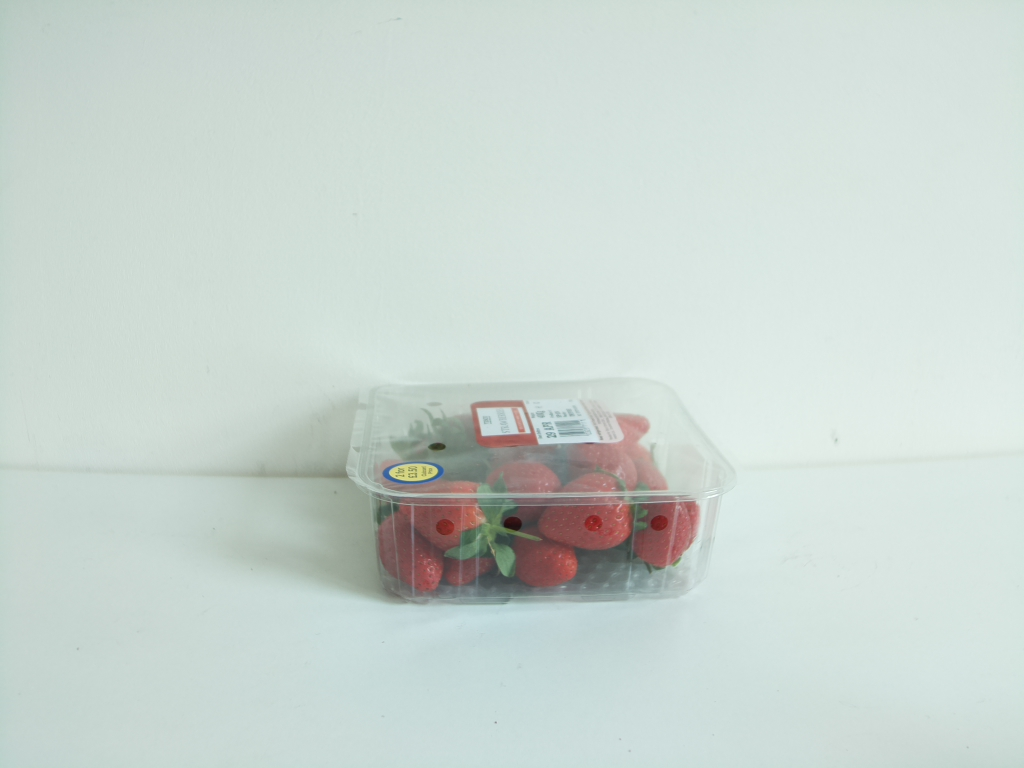soft-fruit: (347, 373, 738, 612)
